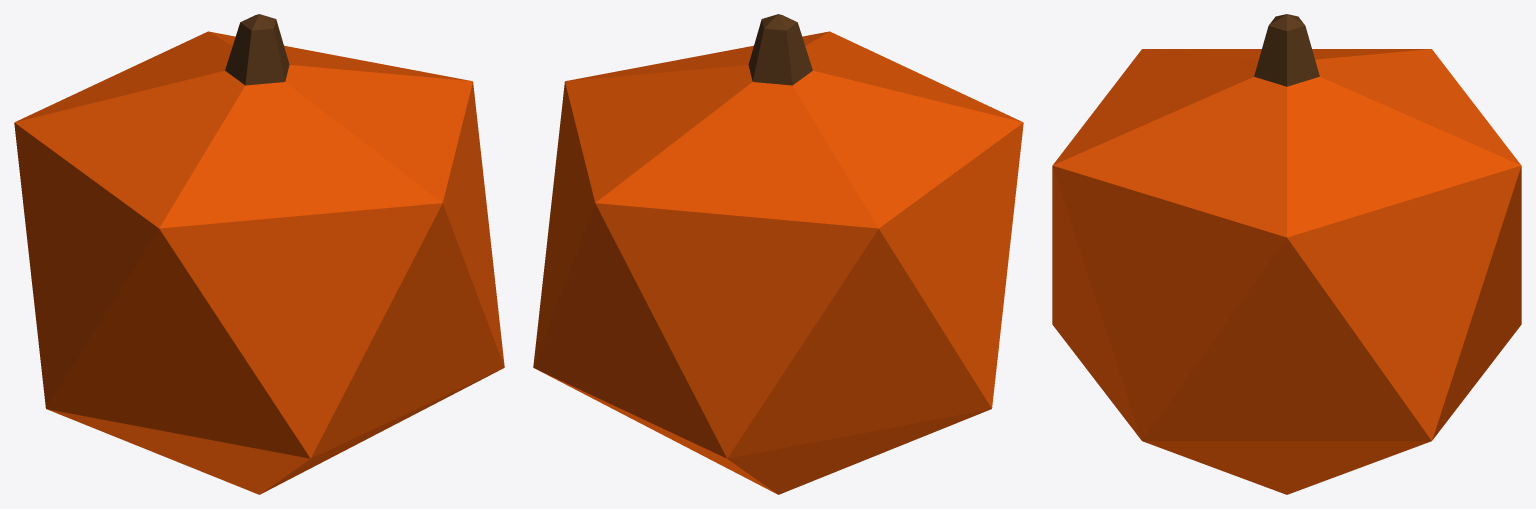
Rendered from naranja.fbx.
3 renders of one model, left to right at view 1: azimuth 30°, elevation 25°; view 2: azimuth 150°, elevation 25°; view 3: azimuth 270°, elevation 25°, orthographic.
Parts seen in each view (by area): view 1: Naranja; view 2: Naranja; view 3: Naranja.
Part boxes in pixels (<box>): Naranja: <box>14,14,504,494</box>; Naranja: <box>533,14,1023,494</box>; Naranja: <box>1052,14,1521,494</box>.
Bounding box in the file's own units: 5.56 × 5.99 × 5.29.
